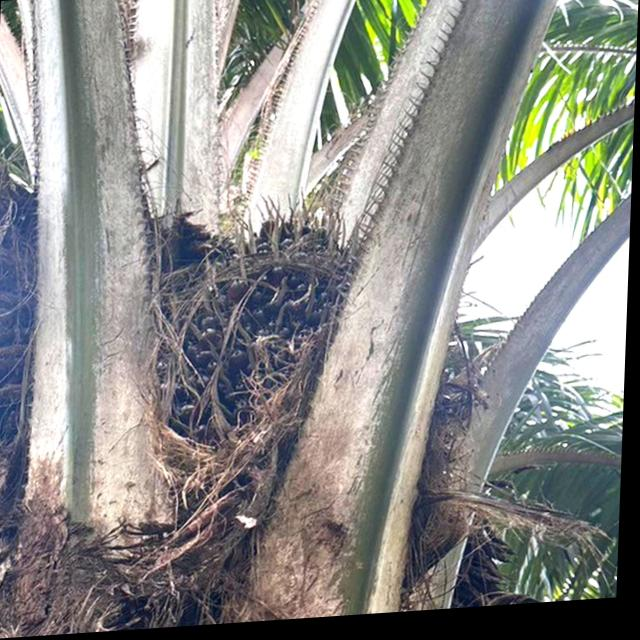ripe: (156, 178, 379, 456)
